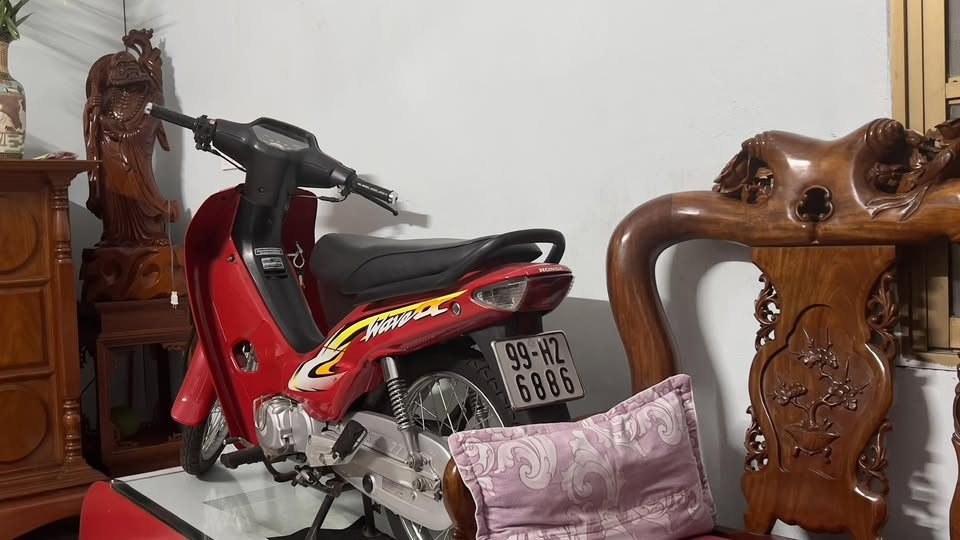bien_so: (481, 326, 597, 414)
